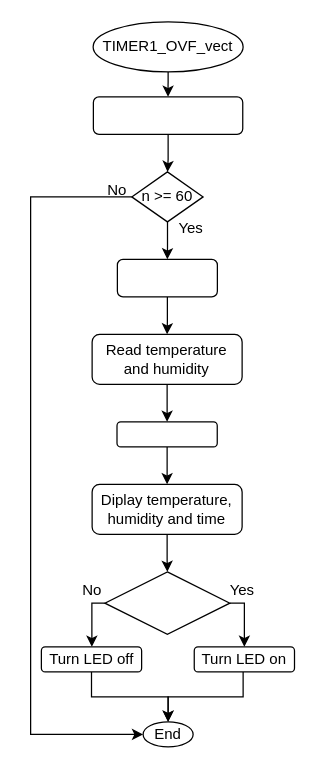
The diagram is 318 pixels wide and 769 high, and some of its shapes have lost their labels. Each missing label, with the centre of its shape:
Increase number of interrupts (n): (x=167, y=115)
Read time: (x=166, y=434)
Set n to 0: (x=166, y=277)
temp >= limit: (x=167, y=602)
